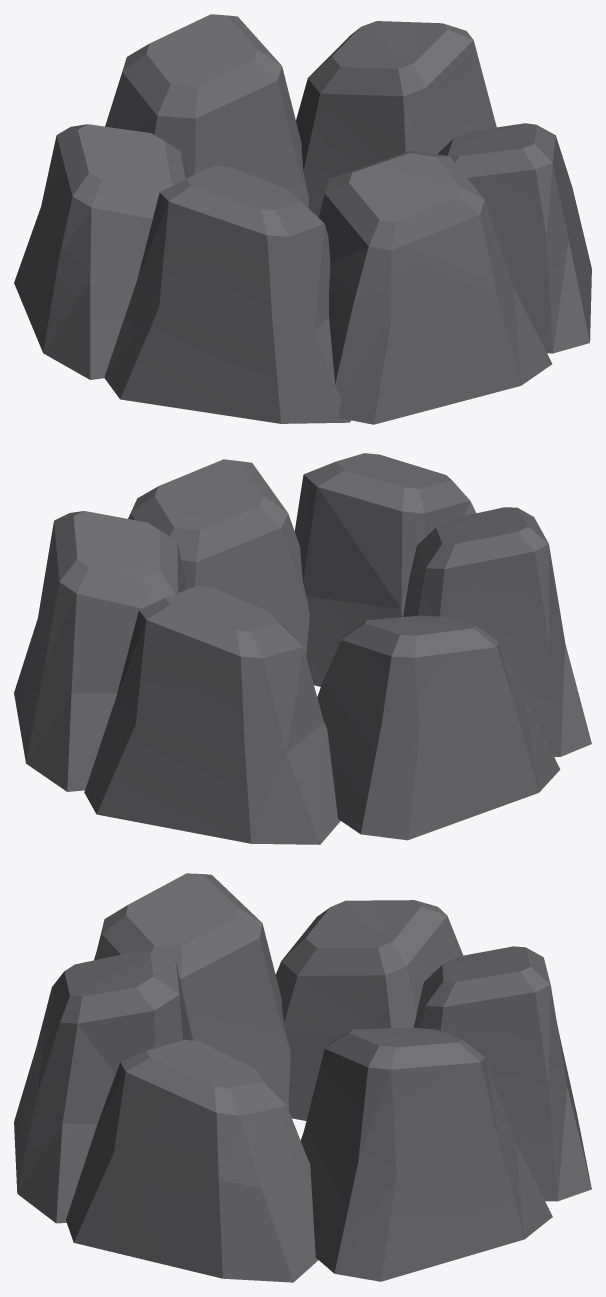
The model's file is Fogata.glb.
The picture shows the model from 3 angles, top to bottom: view 1: azimuth 30°, elevation 25°; view 2: azimuth 150°, elevation 25°; view 3: azimuth 270°, elevation 25°; orthographic projection.
Visible parts, largest first — view 1: SM_Prop_Rock_Circle_01; view 2: SM_Prop_Rock_Circle_01; view 3: SM_Prop_Rock_Circle_01.
Boxes of the visible parts, box(x1,y1,x2,y2) form: SM_Prop_Rock_Circle_01: box(14, 14, 591, 424); SM_Prop_Rock_Circle_01: box(14, 453, 591, 844); SM_Prop_Rock_Circle_01: box(14, 873, 591, 1282).
Size of the model in its own units: 2.6 by 1.01 by 2.58.
Materials: 1 (1 with a texture image).
